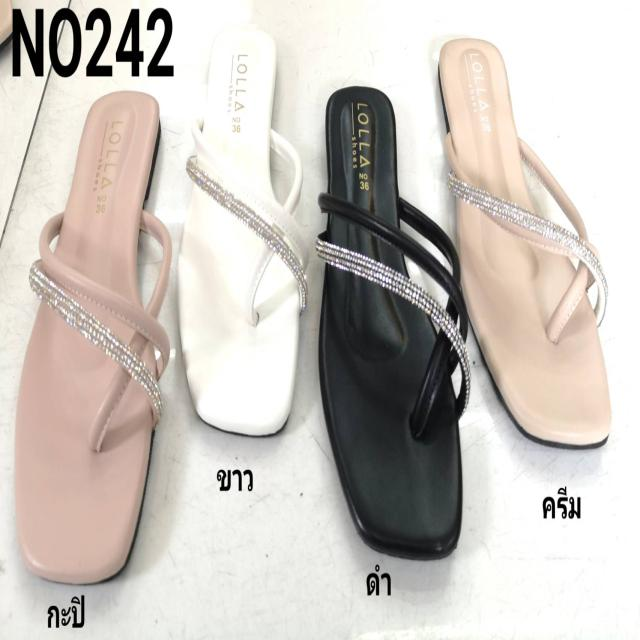black: (318, 87, 462, 547)
cream: (438, 36, 612, 449)
kapi: (16, 98, 163, 579)
white: (180, 27, 300, 435)
